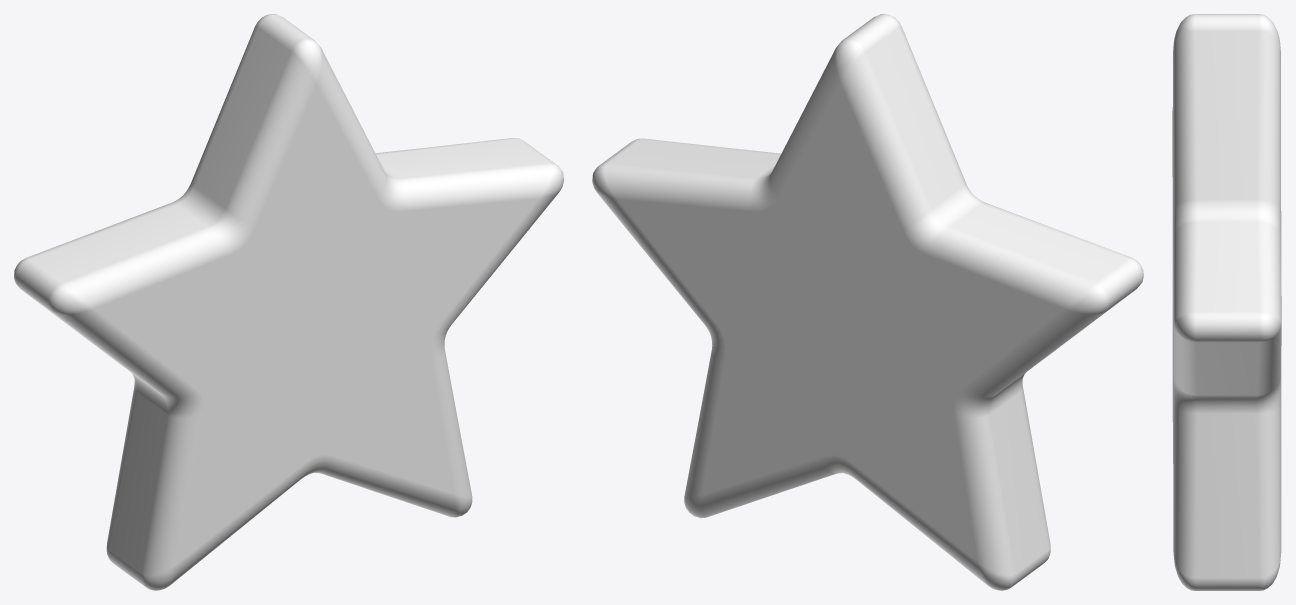
Rendered from explosion_star.FBX.
The picture shows the model from 3 angles, left to right: view 1: azimuth 30°, elevation 25°; view 2: azimuth 150°, elevation 25°; view 3: azimuth 270°, elevation 25°; orthographic projection. The views are drawn at different scales.
Parts seen in each view (by area): view 1: node_id38; view 2: node_id38; view 3: node_id38.
Boxes of the visible parts, bbox=[...] form: node_id38: bbox=[14, 14, 563, 590]; node_id38: bbox=[592, 14, 1143, 590]; node_id38: bbox=[1172, 14, 1281, 590].
Size of the model in its own units: 10.39 by 9.91 by 1.95.
